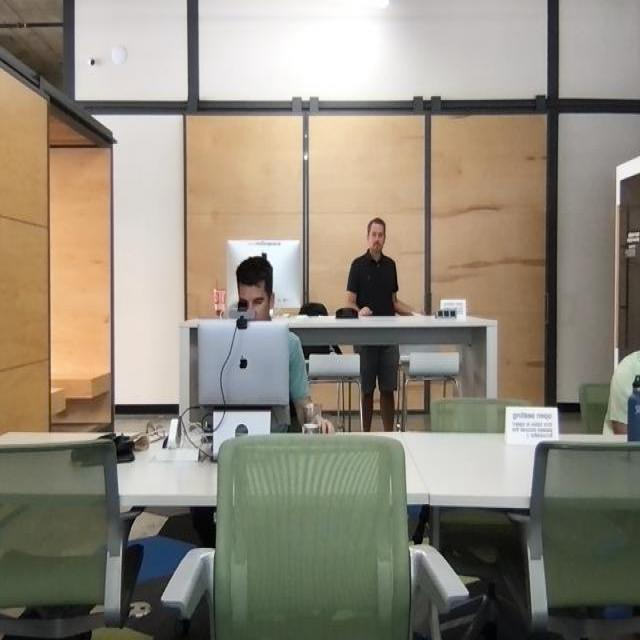face: (235, 257, 276, 323), (366, 217, 389, 256)
